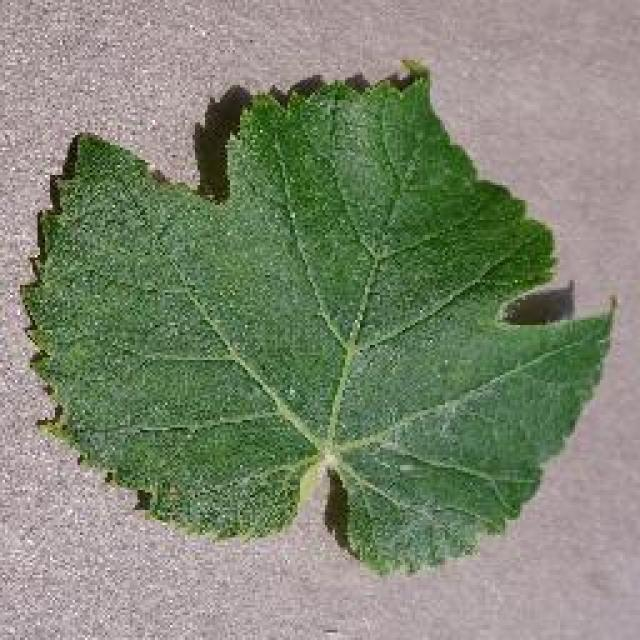Grape___healthy: (13, 62, 624, 588)
